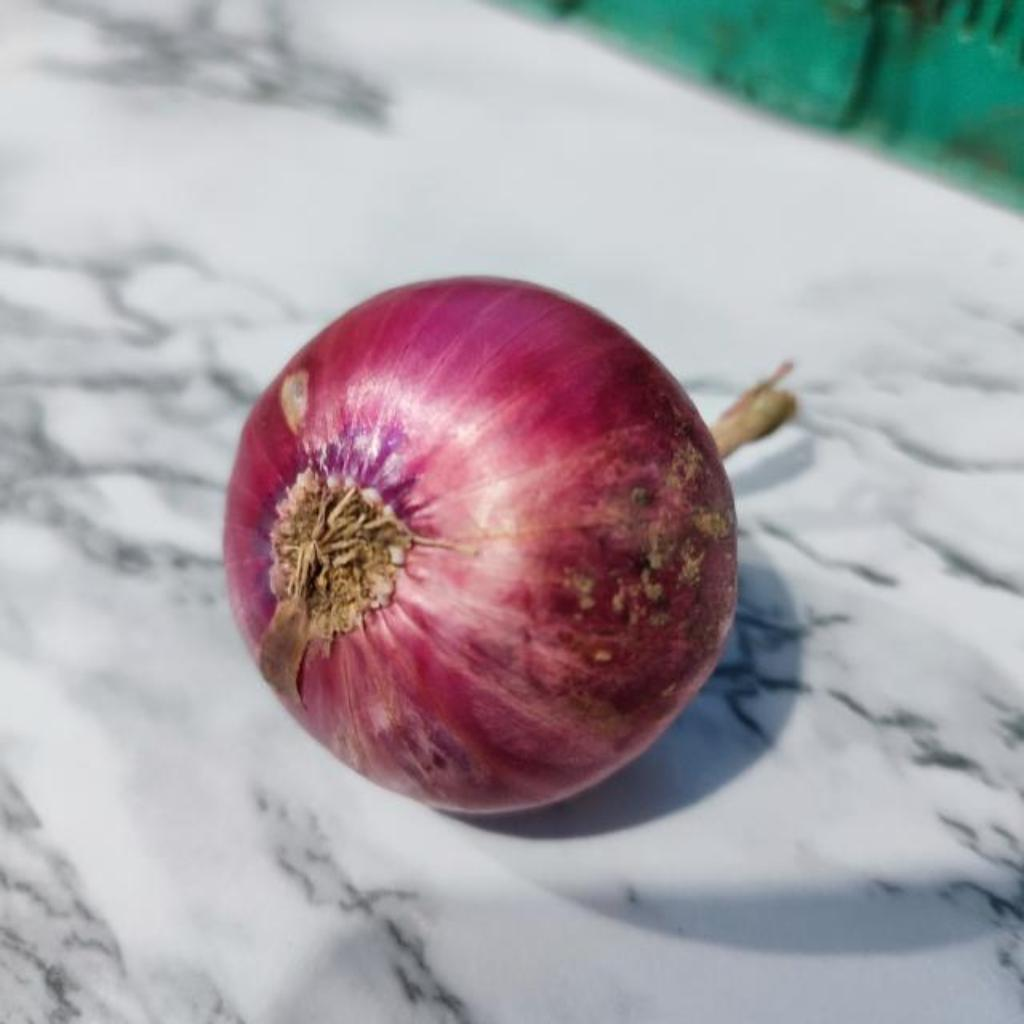Onion: (224, 277, 797, 815)
